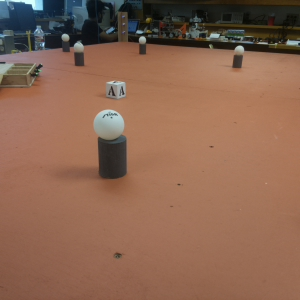obstacle: (93, 107, 133, 182), (231, 45, 245, 68), (74, 41, 85, 68), (62, 33, 72, 51), (138, 36, 146, 54)
side: (8, 61, 41, 87)
